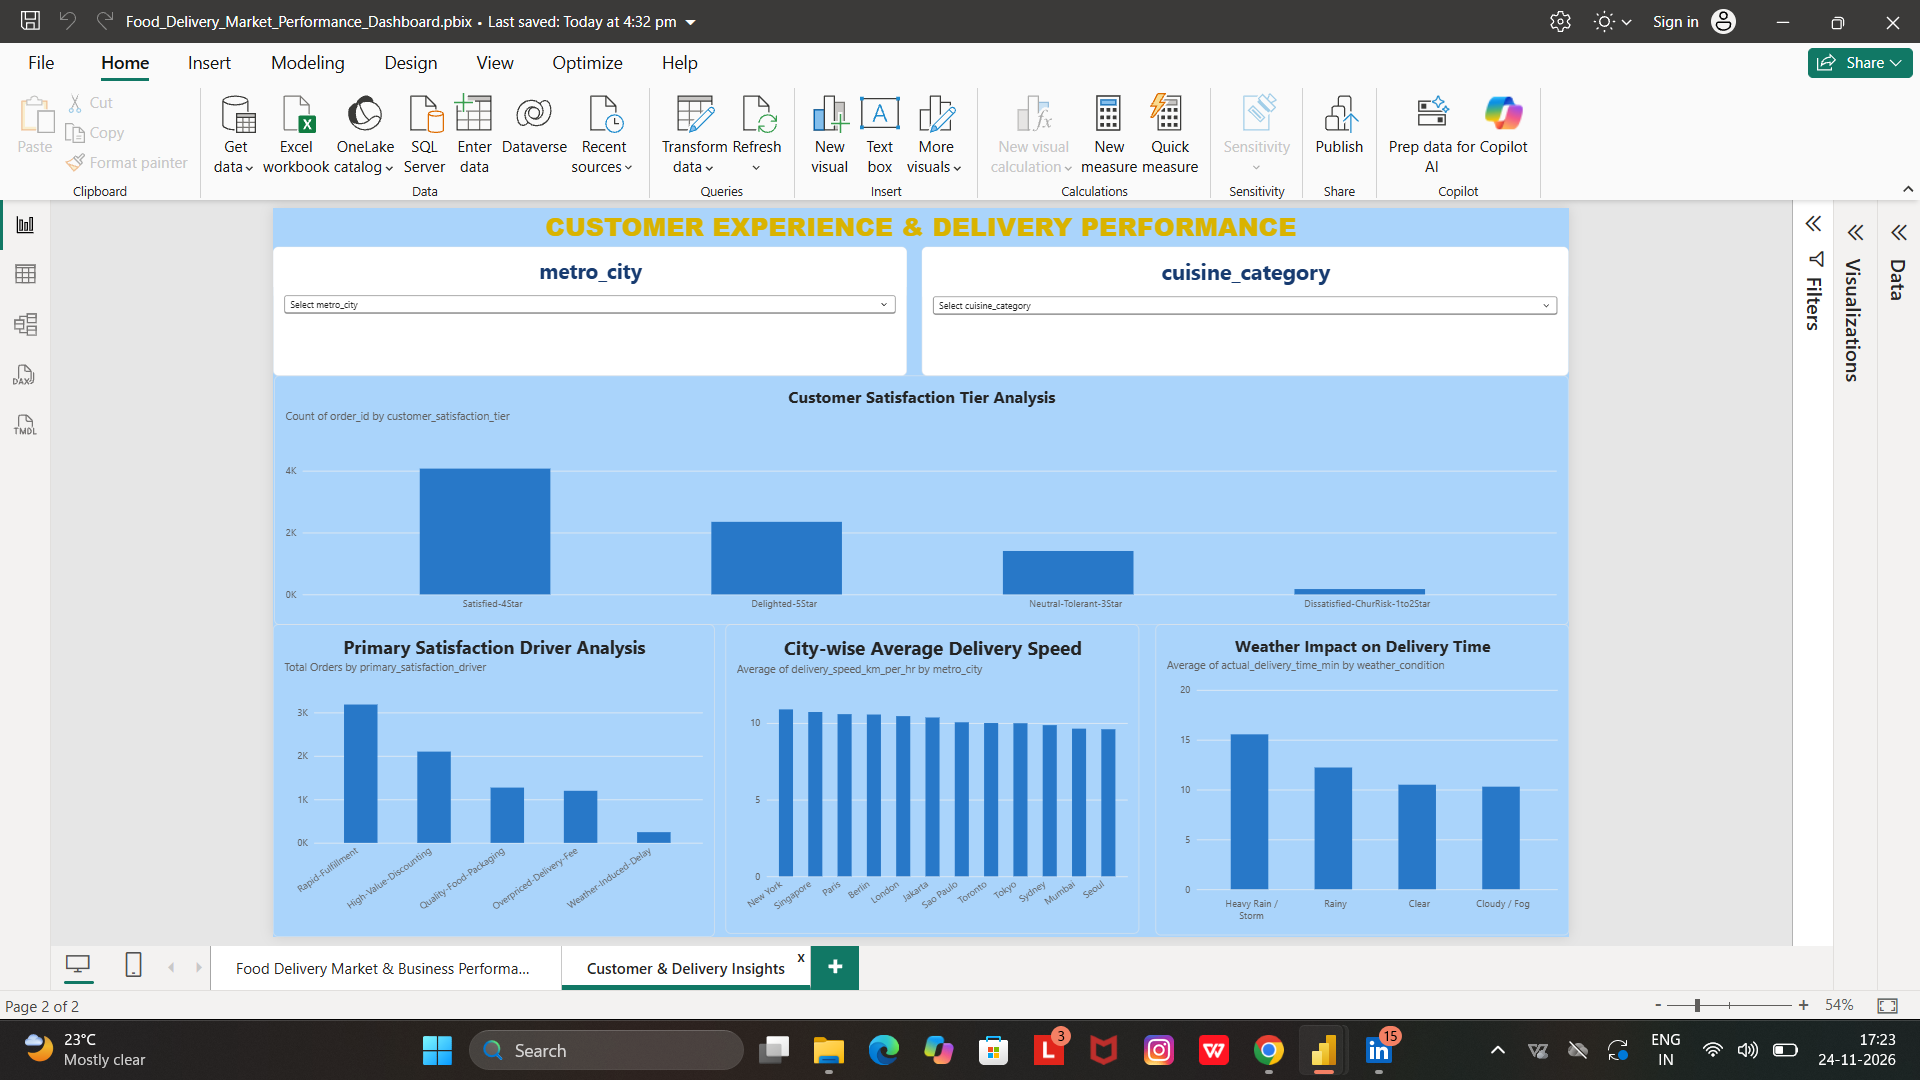

This screenshot's page, from the dashboard's own definition file:
{"tool":"powerbi","page":{"name":"Customer & Delivery Insights","canvas":[1920,1080],"ordinal":1},"visuals":[{"type":"textbox","box":[0,0,1919.6,56.5],"z":0},{"type":"clusteredColumnChart","title":"Customer Satisfaction Tier Analysis","fields":{"Category":["Sheet1.customer_satisfaction_tier"],"Y":["Count(Sheet1.order_id)"]},"box":[2.2,247.8,1917.4,369.6],"z":1},{"type":"clusteredColumnChart","title":"Primary Satisfaction Driver Analysis","fields":{"Category":["Sheet1.primary_satisfaction_driver"],"Y":["Sheet1.Total Orders"]},"box":[0,617.4,654.3,463],"z":2},{"type":"clusteredColumnChart","title":"Weather Impact on Delivery Time","fields":{"Category":["Sheet1.weather_condition"],"Y":["Avg(Sheet1.actual_delivery_time_min)"]},"box":[1306.5,617.4,613,460.9],"z":3},{"type":"clusteredColumnChart","title":"City-wise Average Delivery Speed","fields":{"Category":["Sheet1.metro_city"],"Y":["Avg(Sheet1.delivery_speed_km_per_hr)"]},"box":[669.6,617.4,613,458.7],"z":4},{"type":"listSlicer","fields":{"Values":["Sheet1.metro_city"]},"box":[0,56.5,939.1,191.3],"z":5},{"type":"listSlicer","fields":{"Values":["Sheet1.cuisine_category"]},"box":[960.9,56.5,958.7,191.3],"z":6}]}

Visuals, with their boxes on the page's 1920x1080 design canvas (x1, y1, x2, y2). These are canvas units, not pixel positions in the 1920x1080 screenshot, which may show the page scaled, cropped or inside an application window:
textbox: (x1=0, y1=0, x2=1920, y2=56)
"Customer Satisfaction Tier Analysis" clusteredColumnChart: (x1=2, y1=248, x2=1920, y2=617)
"Primary Satisfaction Driver Analysis" clusteredColumnChart: (x1=0, y1=617, x2=654, y2=1080)
"Weather Impact on Delivery Time" clusteredColumnChart: (x1=1306, y1=617, x2=1920, y2=1078)
"City-wise Average Delivery Speed" clusteredColumnChart: (x1=670, y1=617, x2=1283, y2=1076)
listSlicer - Sheet1.metro_city: (x1=0, y1=56, x2=939, y2=248)
listSlicer - Sheet1.cuisine_category: (x1=961, y1=56, x2=1920, y2=248)
